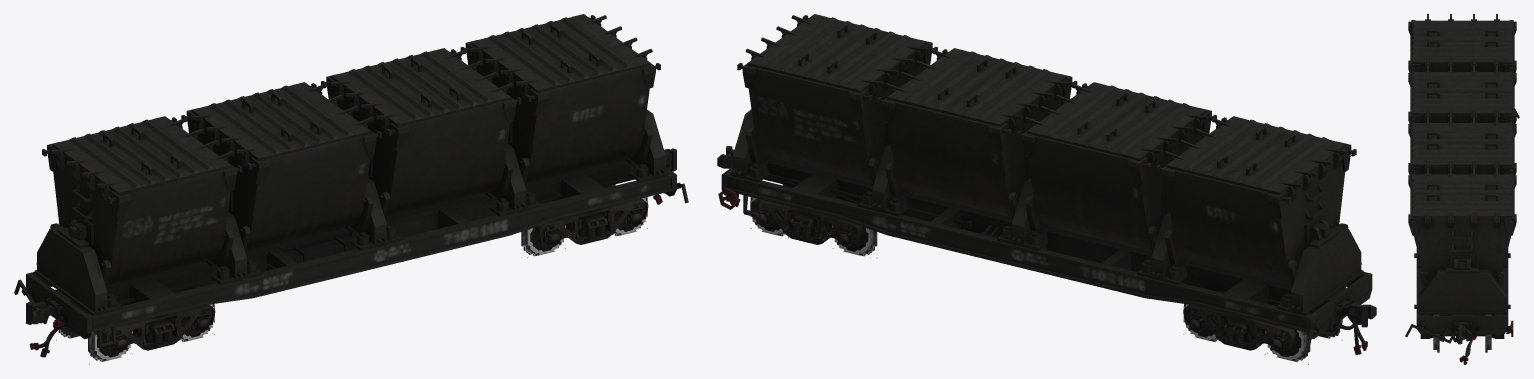
Rendered from mvp_ir_bunker.obj.
3 views of the same model, side by side, from view 1: azimuth 30°, elevation 25°; view 2: azimuth 150°, elevation 25°; view 3: azimuth 270°, elevation 25° (orthographic). The views are drawn at different scales.
Visible parts, largest first — view 1: FRAME_bunker, BOGEY_REAR_bunker, BOGEY_FRONT_bunker, BOGEY_FRONT_WHEEL_1_bunker, BOGEY_REAR_WHEEL_1_bunker; view 2: FRAME_bunker, BOGEY_FRONT_bunker, BOGEY_REAR_bunker, BOGEY_FRONT_WHEEL_1_bunker, BOGEY_REAR_WHEEL_1_bunker; view 3: FRAME_bunker, BOGEY_REAR_WHEEL_2_bunker, BOGEY_REAR_bunker, COUPLER_ENGAGED_REAR_2_TOGGLE.
Part boxes in pixels (x1=…): FRAME_bunker: x1=21, y1=14, x2=681, y2=348; BOGEY_REAR_bunker: x1=536, y1=197, x2=648, y2=247; BOGEY_FRONT_bunker: x1=102, y1=302, x2=215, y2=352; BOGEY_FRONT_WHEEL_1_bunker: x1=55, y1=313, x2=132, y2=364; BOGEY_REAR_WHEEL_1_bunker: x1=521, y1=225, x2=566, y2=257; FRAME_bunker: x1=717, y1=14, x2=1376, y2=338; BOGEY_FRONT_bunker: x1=1183, y1=302, x2=1295, y2=352; BOGEY_REAR_bunker: x1=750, y1=197, x2=862, y2=246; BOGEY_FRONT_WHEEL_1_bunker: x1=1265, y1=313, x2=1342, y2=364; BOGEY_REAR_WHEEL_1_bunker: x1=832, y1=225, x2=877, y2=257; FRAME_bunker: x1=1408, y1=14, x2=1516, y2=344; BOGEY_REAR_WHEEL_2_bunker: x1=1432, y1=314, x2=1492, y2=352; BOGEY_REAR_bunker: x1=1420, y1=314, x2=1504, y2=338; COUPLER_ENGAGED_REAR_2_TOGGLE: x1=1405, y1=324, x2=1452, y2=343.
Size of the model in its own units: 16.81 by 4.69 by 3.42.
